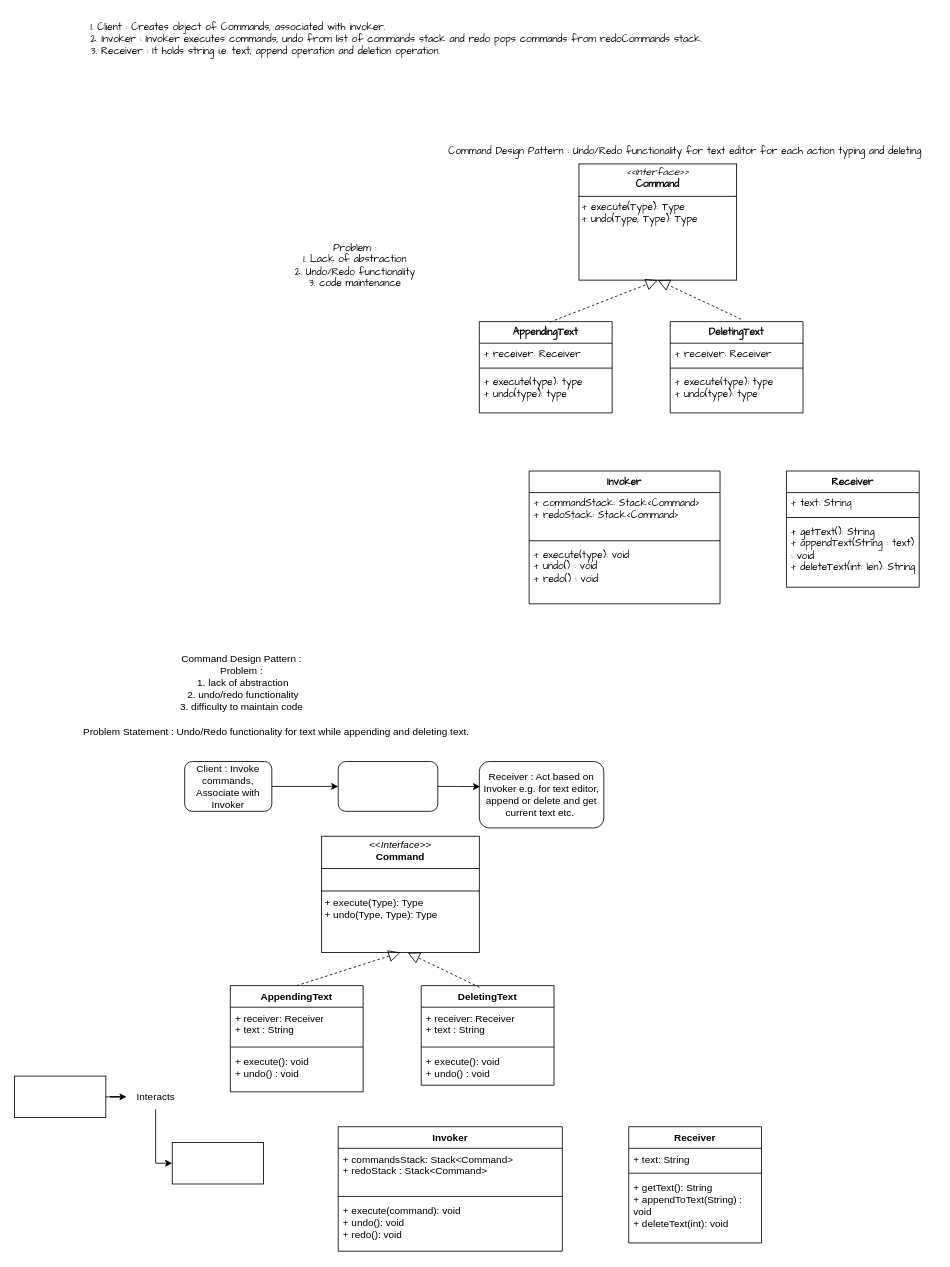
Image size: 950x1267. Some labels were removed from this diagram. Each missing label, with the centre of its shape:
"Client" belongs at pixel 60 1096.
"Invoker: Execute commands, perform undo and redo operations" belongs at pixel 387 786.
"Main Method" belongs at pixel 217 1163.
